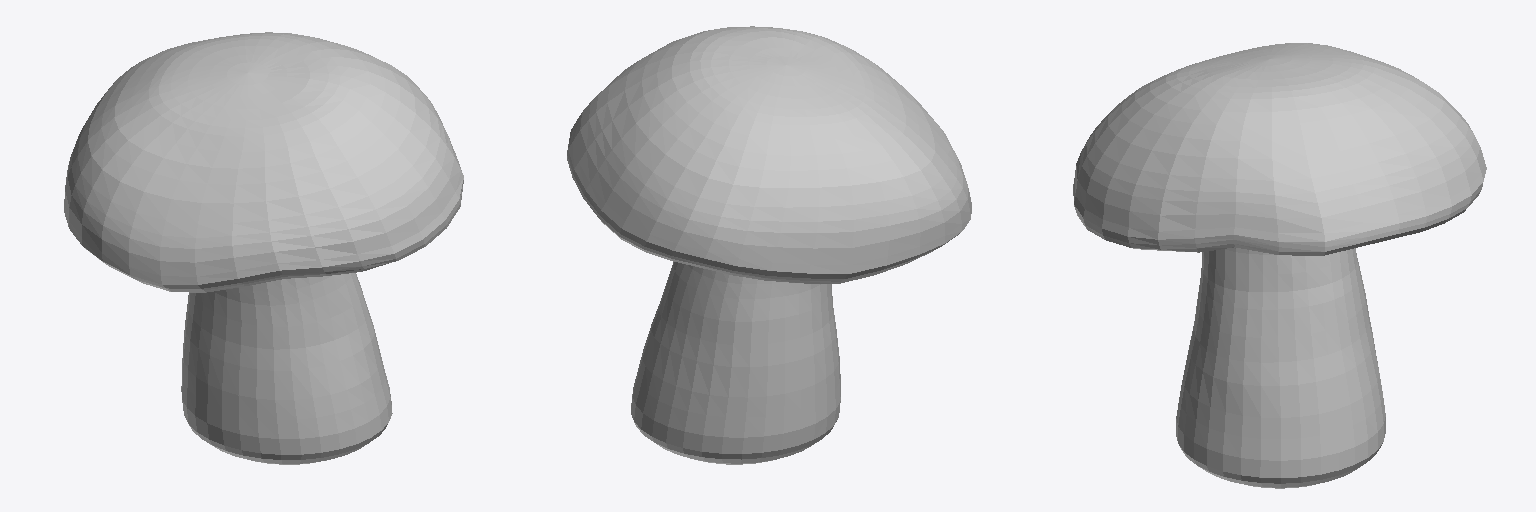
Rendered from belyj-grib-berezovyj.obj.
3 views of the same model, side by side, from view 1: azimuth 30°, elevation 25°; view 2: azimuth 150°, elevation 25°; view 3: azimuth 270°, elevation 25° (orthographic).
Visible parts, largest first — view 1: Cylinder; view 2: Cylinder; view 3: Cylinder.
Part boxes in pixels (x1,y1,x2,y2): Cylinder: (64,32,463,464); Cylinder: (567,26,971,464); Cylinder: (1073,43,1486,488).
Size of the model in its own units: 1.93 by 2.04 by 1.97.